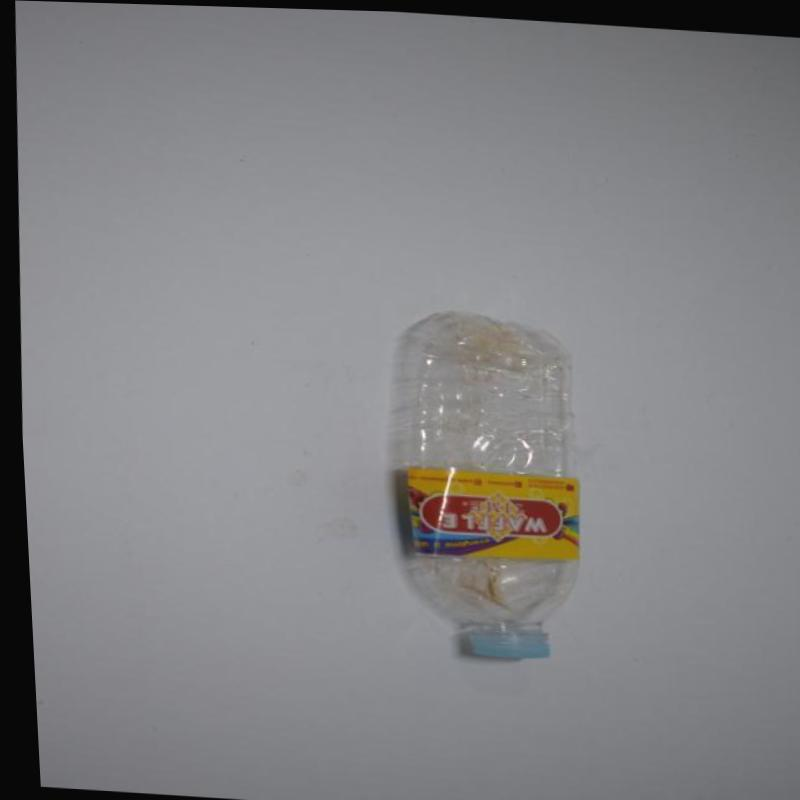botella: (380, 303, 585, 663)
